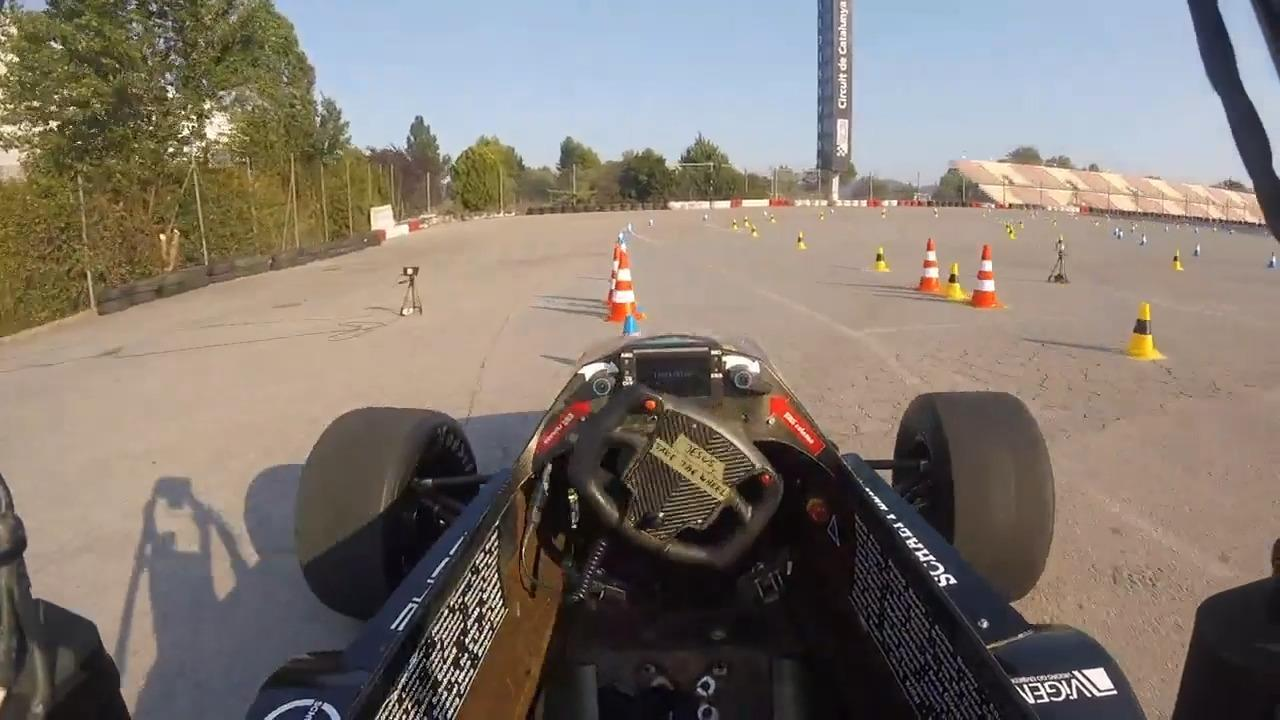blue_cone: (616, 315, 650, 375), (1267, 250, 1277, 271), (1193, 241, 1203, 261), (1140, 232, 1148, 247), (1117, 228, 1123, 241)
large_orange_cone: (611, 254, 639, 320), (971, 246, 998, 312), (608, 248, 628, 309), (920, 239, 940, 292)
yellow_cone: (1124, 303, 1157, 361), (945, 261, 961, 299), (870, 245, 886, 271), (1169, 245, 1183, 274), (794, 228, 806, 252), (749, 223, 758, 238)
